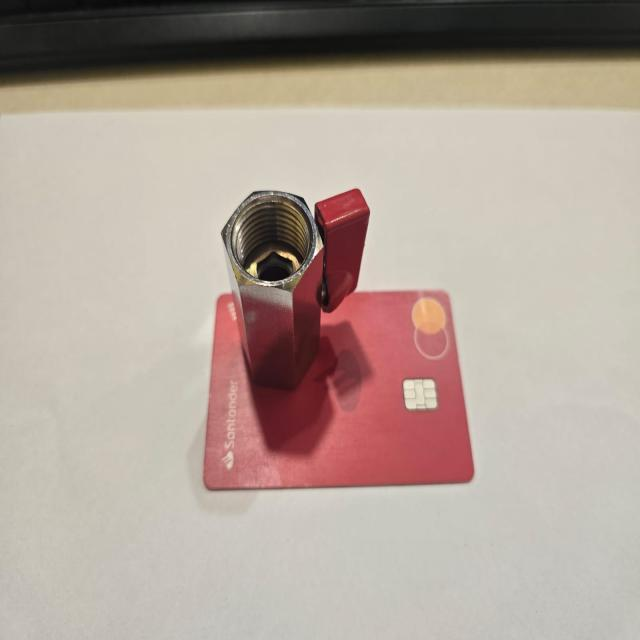cartao: (205, 294, 479, 488)
rosca_interna: (221, 190, 325, 291)
